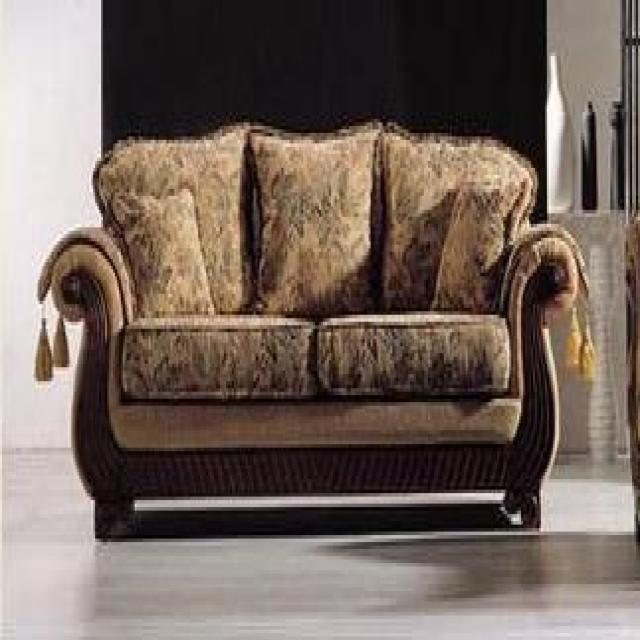sofa: (35, 121, 593, 533)
